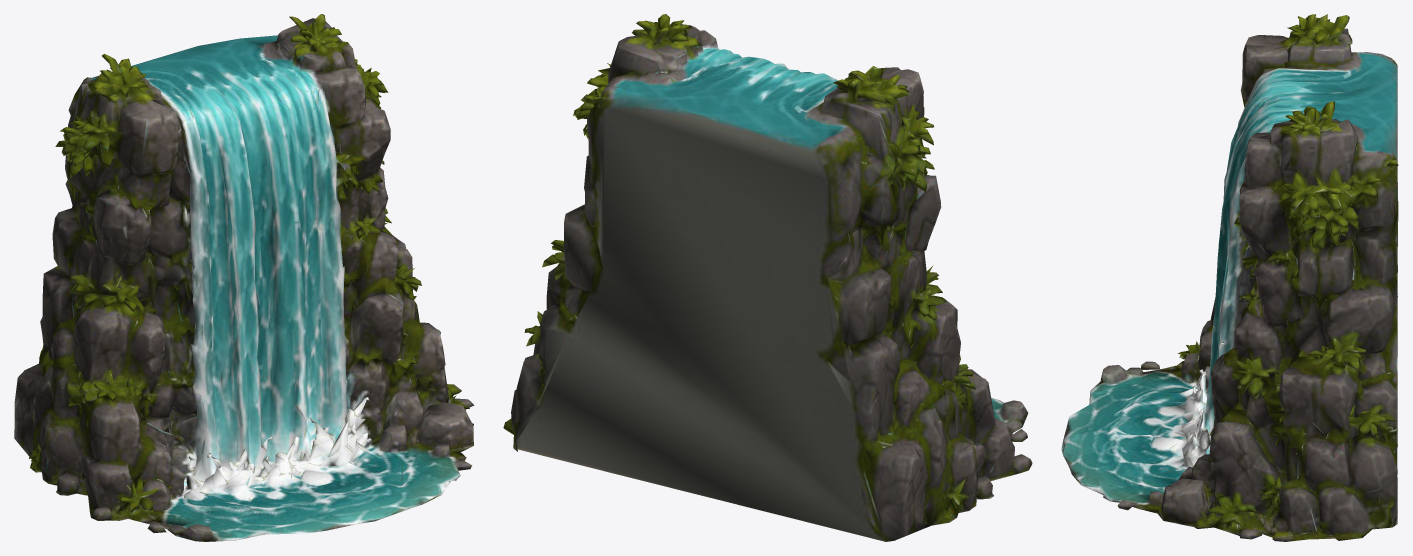
The model's file is waterfall.glb.
3 renders of one model, left to right at view 1: azimuth 30°, elevation 25°; view 2: azimuth 150°, elevation 25°; view 3: azimuth 270°, elevation 25°, orthographic. The views are drawn at different scales.
Parts seen in each view (by area): view 1: Mesh1.0; view 2: Mesh1.0; view 3: Mesh1.0.
Boxes of the visible parts, x1,y1,x2,y2 form: Mesh1.0: (14,14,474,541); Mesh1.0: (503,14,1032,541); Mesh1.0: (1061,14,1398,541).
Size of the model in its own units: 1.9 by 1.74 by 1.41.
1 material, 1 textured.
